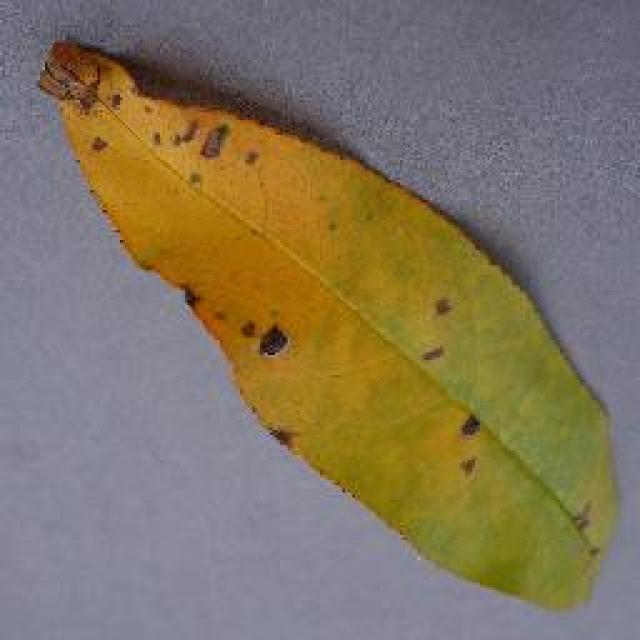Peach_Bacterial_Spot: (95, 32, 515, 443)
